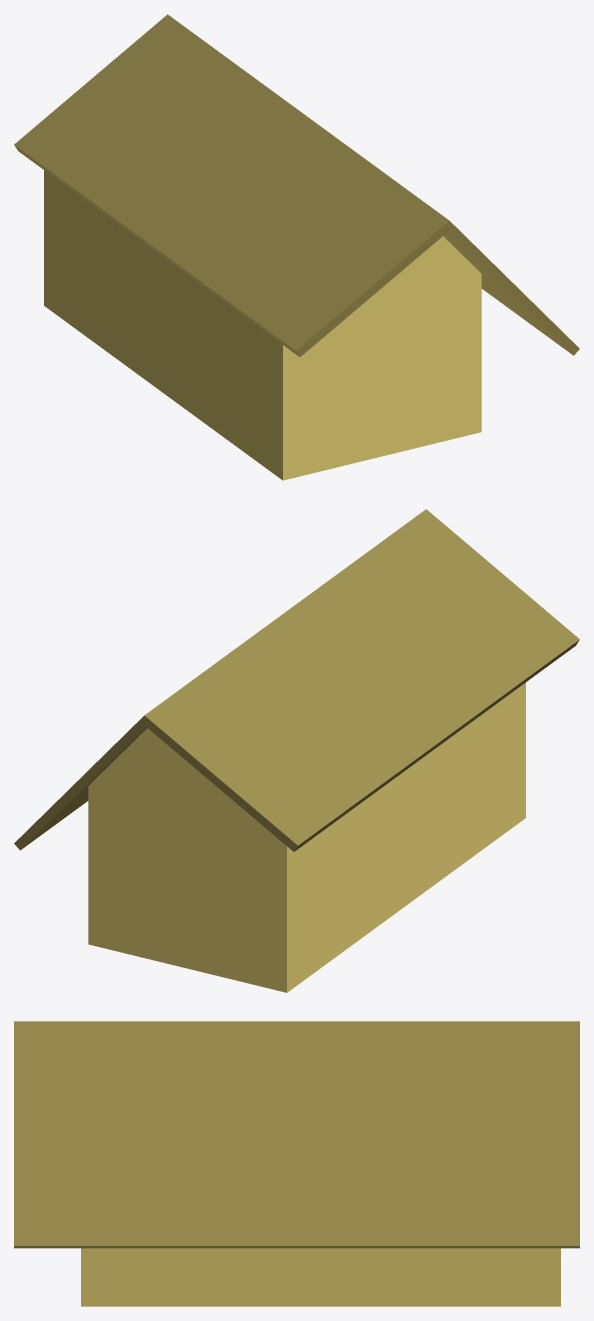
The model's file is result.glb.
3 renders of one model, top to bottom at view 1: azimuth 30°, elevation 25°; view 2: azimuth 150°, elevation 25°; view 3: azimuth 270°, elevation 25°, orthographic.
Parts seen in each view (by area): view 1: f19e4b6c-bcbe-4a5e-98e3-7719d8470f10__undefined (×2), 2701f442-9ff6-44e8-857d-79cf40a31326__undefined; view 2: f19e4b6c-bcbe-4a5e-98e3-7719d8470f10__undefined (×2), 2701f442-9ff6-44e8-857d-79cf40a31326__undefined; view 3: f19e4b6c-bcbe-4a5e-98e3-7719d8470f10__undefined, 2701f442-9ff6-44e8-857d-79cf40a31326__undefined.
Part boxes in pixels (x1=…): f19e4b6c-bcbe-4a5e-98e3-7719d8470f10__undefined (×2): x1=14, y1=14, x2=579, y2=356; 2701f442-9ff6-44e8-857d-79cf40a31326__undefined: x1=44, y1=170, x2=481, y2=480; f19e4b6c-bcbe-4a5e-98e3-7719d8470f10__undefined (×2): x1=14, y1=509, x2=579, y2=851; 2701f442-9ff6-44e8-857d-79cf40a31326__undefined: x1=88, y1=682, x2=525, y2=992; f19e4b6c-bcbe-4a5e-98e3-7719d8470f10__undefined: x1=14, y1=1021, x2=579, y2=1248; 2701f442-9ff6-44e8-857d-79cf40a31326__undefined: x1=81, y1=1248, x2=560, y2=1306.
Size of the model in its own units: 869 by 736 by 1493.
